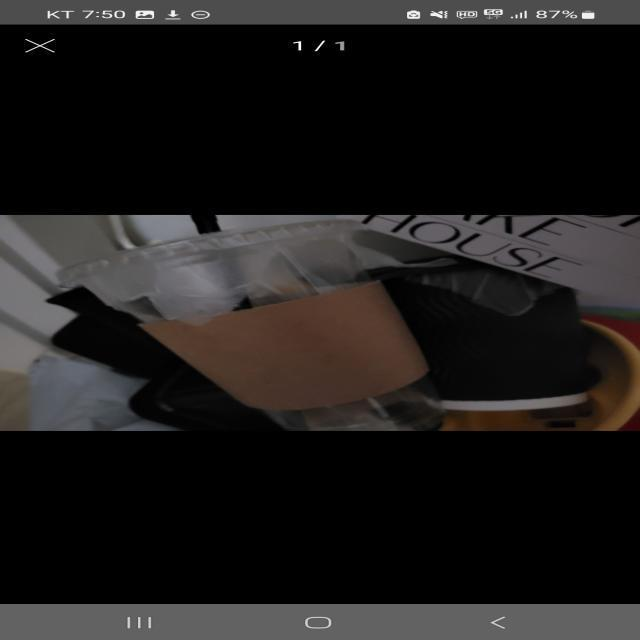cup: (54, 218, 452, 441)
